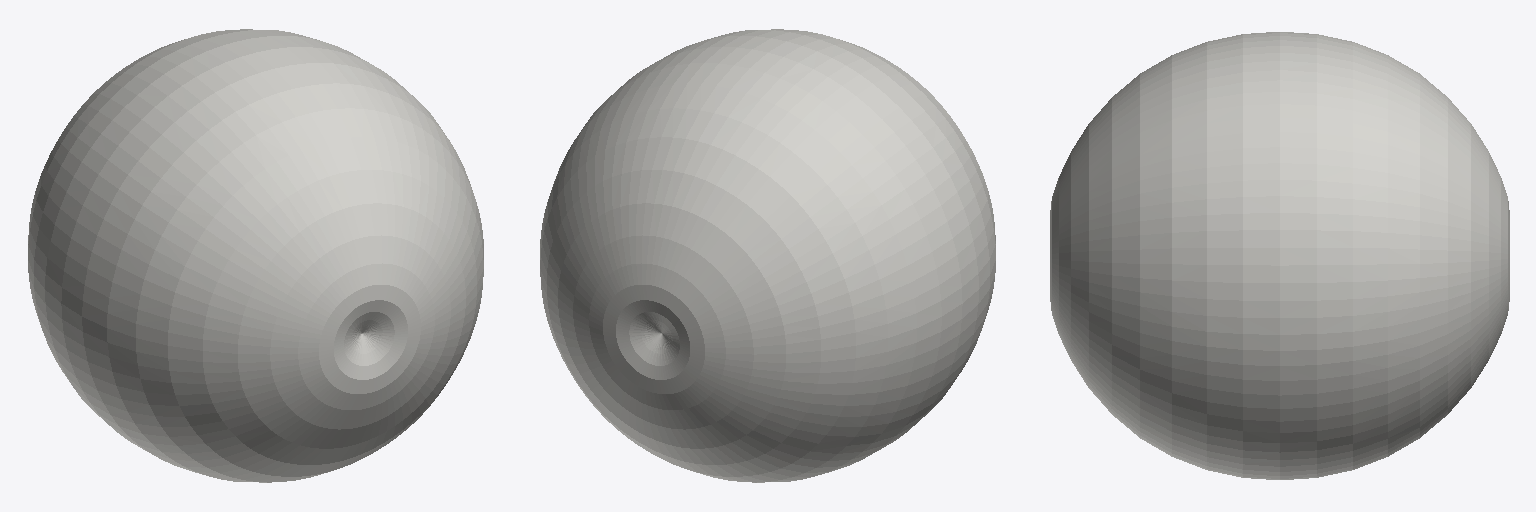
Rendered from OrangeFascia.obj.
3 views of the same model, side by side, from view 1: azimuth 30°, elevation 25°; view 2: azimuth 150°, elevation 25°; view 3: azimuth 270°, elevation 25° (orthographic).
Parts seen in each view (by area): view 1: OrangeFascia; view 2: OrangeFascia; view 3: OrangeFascia.
Part boxes in pixels (left/top/right/bottom): OrangeFascia: left=28, top=29, right=483, bottom=482; OrangeFascia: left=540, top=29, right=995, bottom=482; OrangeFascia: left=1050, top=32, right=1509, bottom=479.
Size of the model in its own units: 0.0552 by 0.0551 by 0.0564.